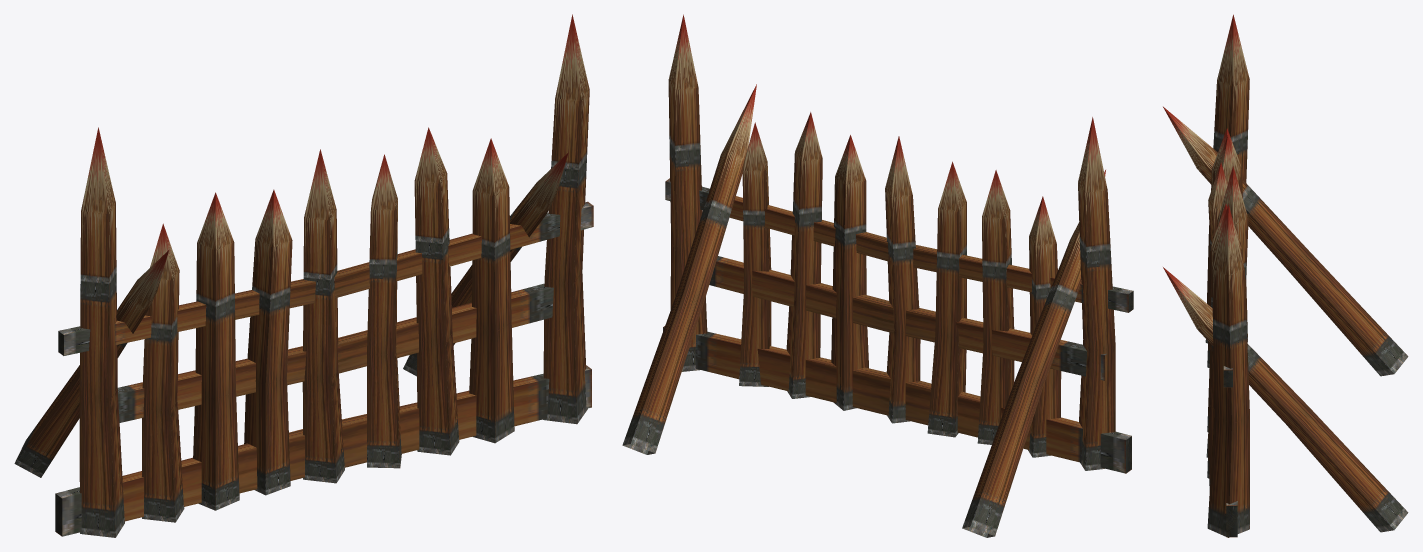
File: environment_Building_yingzhai_001_b.FBX
3 views of the same model, side by side, from view 1: azimuth 30°, elevation 25°; view 2: azimuth 150°, elevation 25°; view 3: azimuth 270°, elevation 25° (orthographic). The views are drawn at different scales.
Visible parts, largest first — view 1: environment_Building_yingzhai_001_b; view 2: environment_Building_yingzhai_001_b; view 3: environment_Building_yingzhai_001_b.
Part boxes in pixels (x1,y1,x2,y2): environment_Building_yingzhai_001_b: (14,14,593,537); environment_Building_yingzhai_001_b: (622,14,1133,537); environment_Building_yingzhai_001_b: (1163,14,1408,537).
Bounding box in the file's own units: 421 × 206 × 323.
